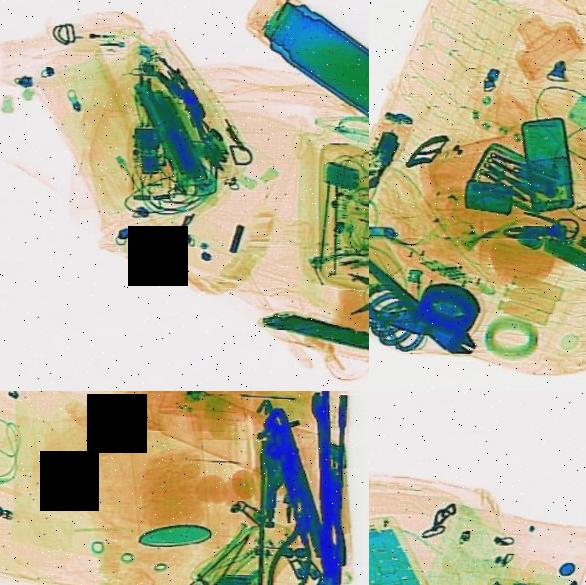Pliers: (369, 235, 491, 381), (259, 496, 328, 585), (342, 247, 369, 332)
